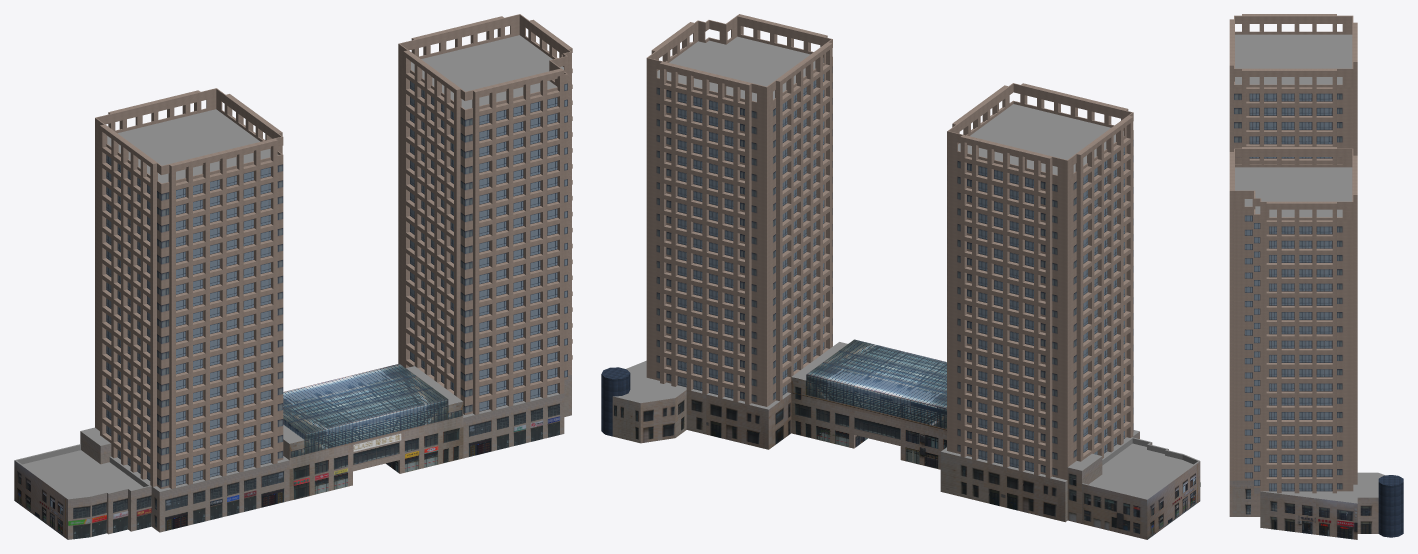
The model's file is side building19.FBX.
3 views of the same model, side by side, from view 1: azimuth 30°, elevation 25°; view 2: azimuth 150°, elevation 25°; view 3: azimuth 270°, elevation 25° (orthographic). The views are drawn at different scales.
Visible parts, largest first — view 1: class1; view 2: class1; view 3: class1.
Boxes of the visible parts, x1,y1,x2,y2 form: class1: (14, 14, 572, 539); class1: (601, 14, 1200, 539); class1: (1229, 14, 1403, 539).
Size of the model in its own units: 105 by 33.16 by 68.5.
